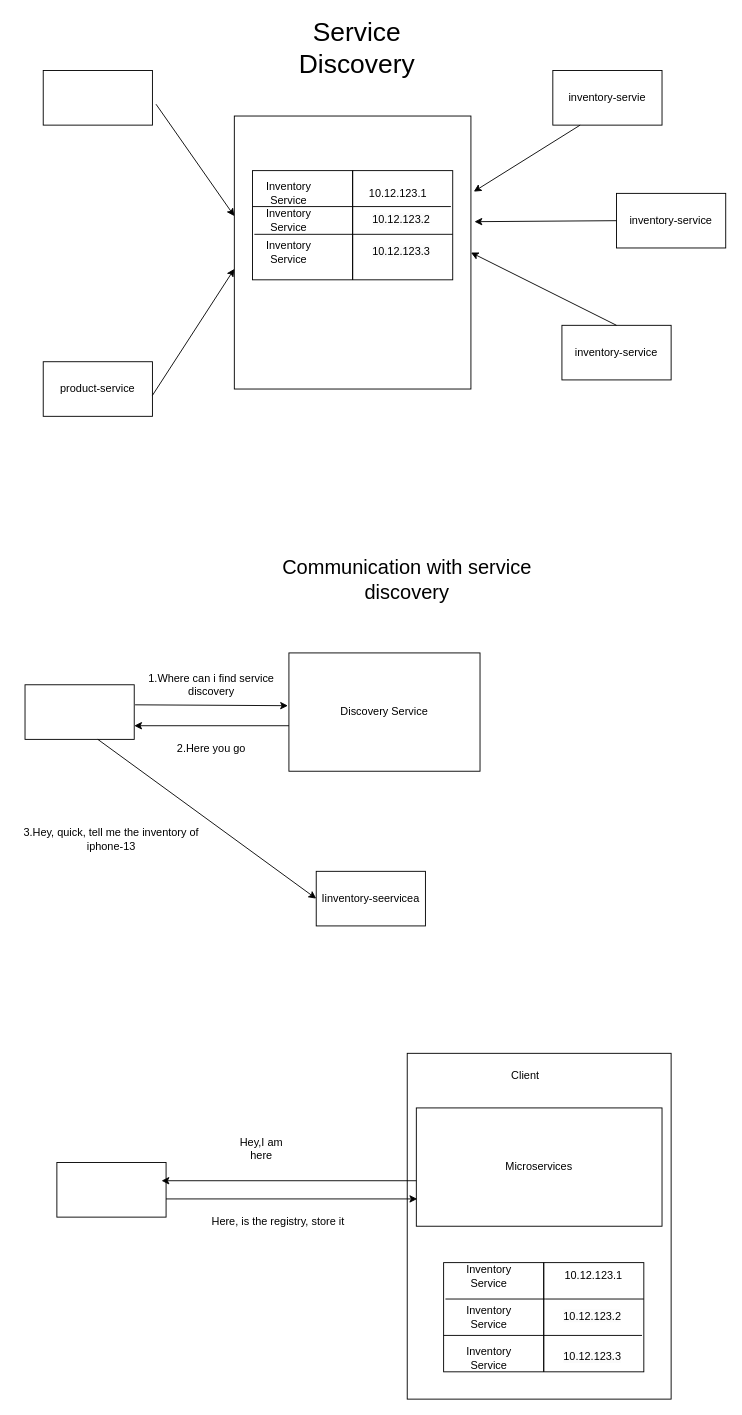
Some shapes in this 742 by 1415 pixel diagram are drawn without their labels. The shapes that lost their labels are listed below. From the top down, each one's centre as x and y in pixels, then its label:
At point 97,97: "Order Service".
At point 79,711: "order-service".
At point 111,1189: "Discovery Server".
